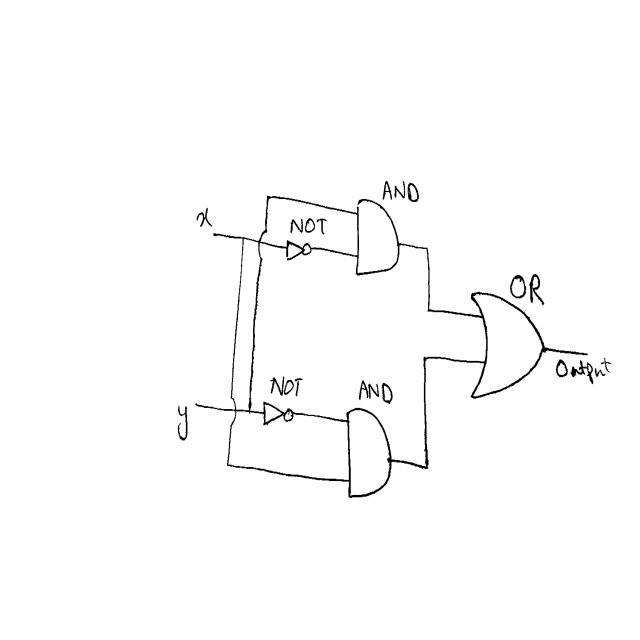crossover: (257, 227, 269, 263), (227, 394, 237, 430)
junction: (424, 302, 434, 319), (422, 458, 431, 474), (264, 190, 272, 203), (422, 243, 431, 254), (421, 352, 429, 364), (239, 233, 246, 245), (225, 459, 232, 470), (247, 405, 253, 416)
terminal: (583, 349, 593, 359), (193, 400, 200, 410), (211, 230, 217, 240)
text: (555, 356, 612, 385), (509, 272, 545, 306), (382, 178, 421, 204), (357, 378, 394, 405), (289, 214, 327, 238), (269, 373, 304, 397), (176, 402, 190, 443), (195, 208, 212, 227)
